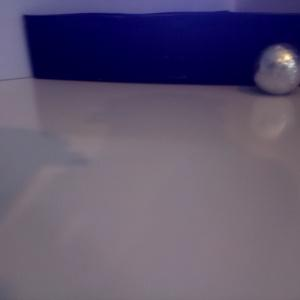zone: (22, 11, 300, 86)
